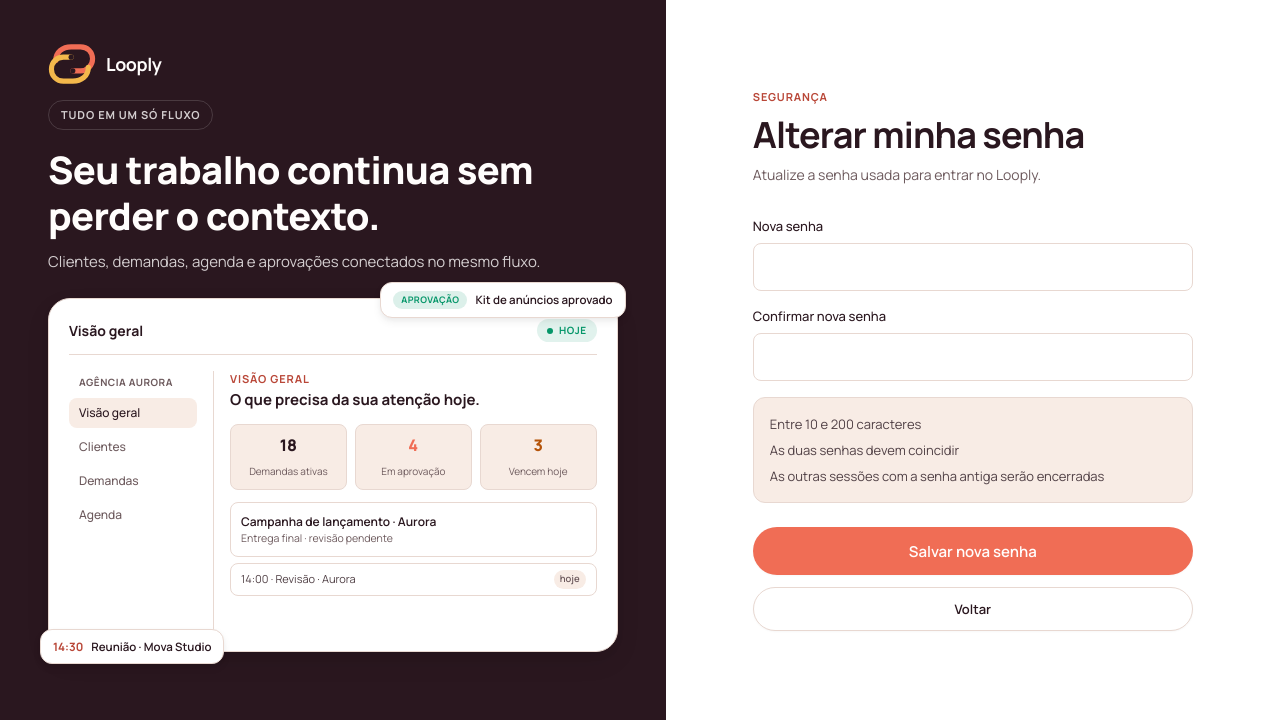
ChangePassword › shows a neutral message on network failure, never a raw error
The width and height of the screenshot is (1280, 720).
Type "senhaforte123" into the password field labelled "Nova senha" at (973, 267), box [753, 242, 1193, 291]
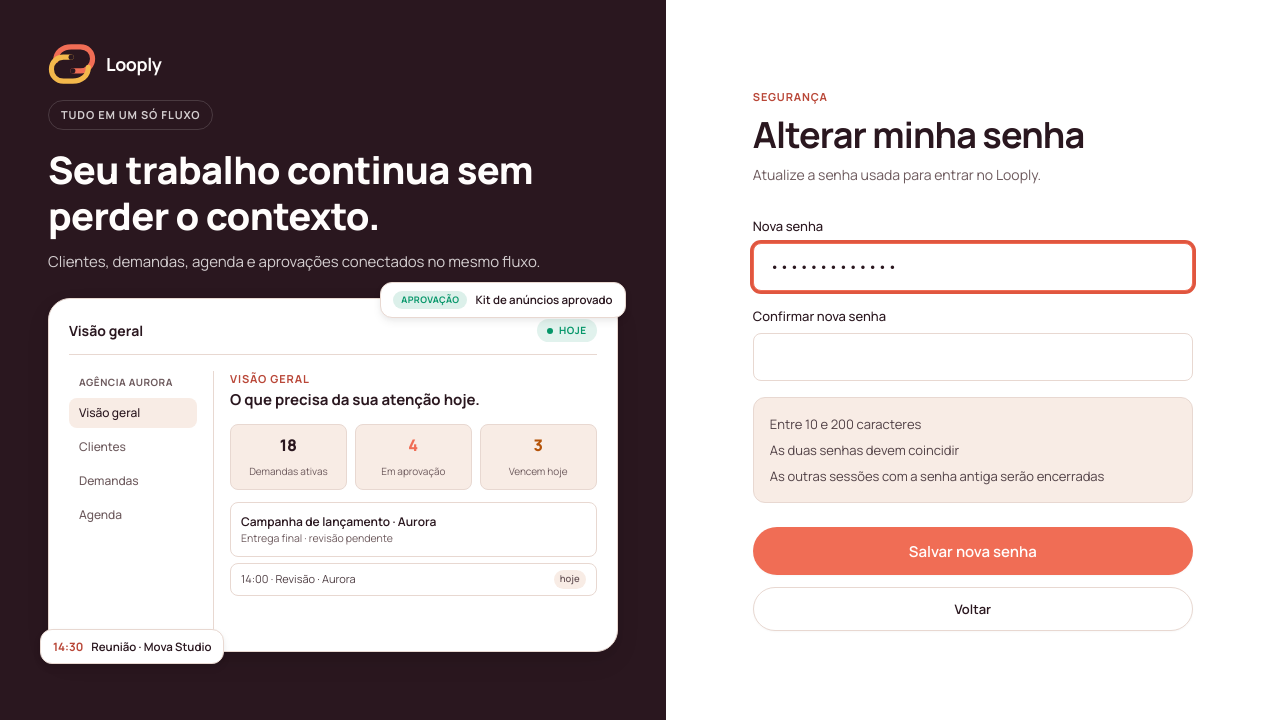
Type "senhaforte123" into the password field labelled "Confirmar nova senha" at (973, 357), box [753, 332, 1193, 381]
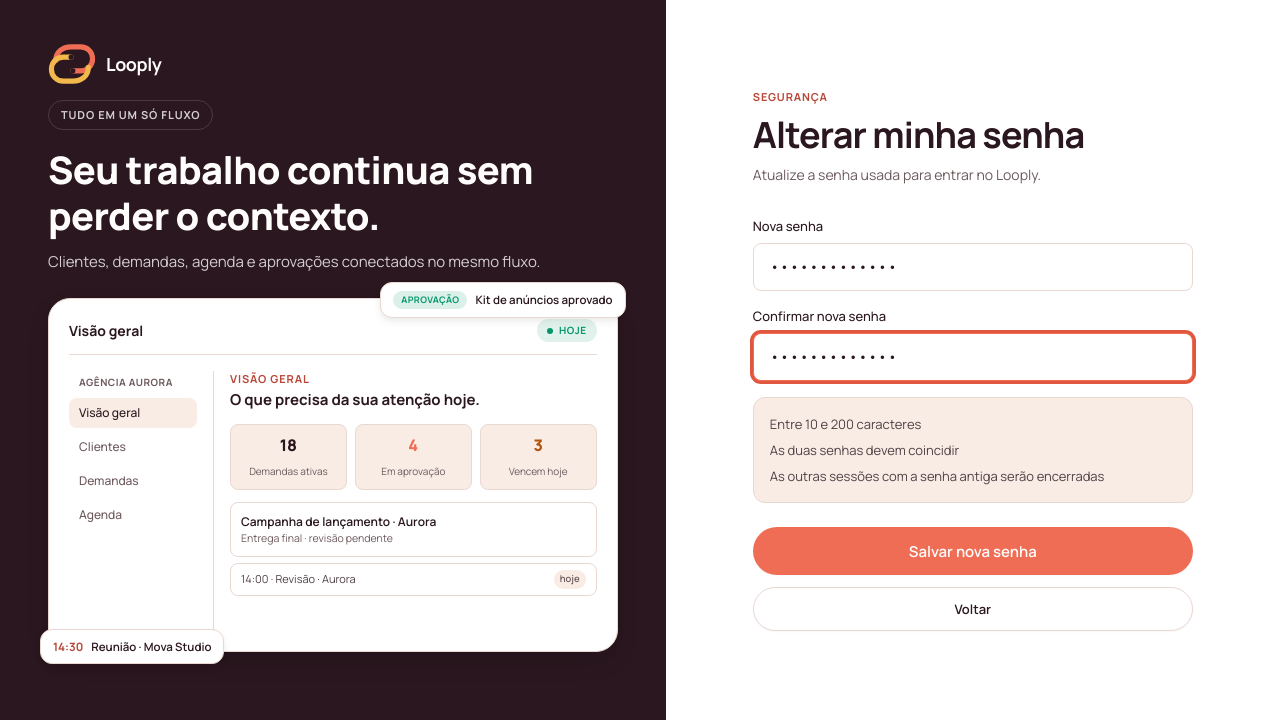
Click the button "Salvar nova senha" at (973, 551), box [753, 527, 1193, 575]
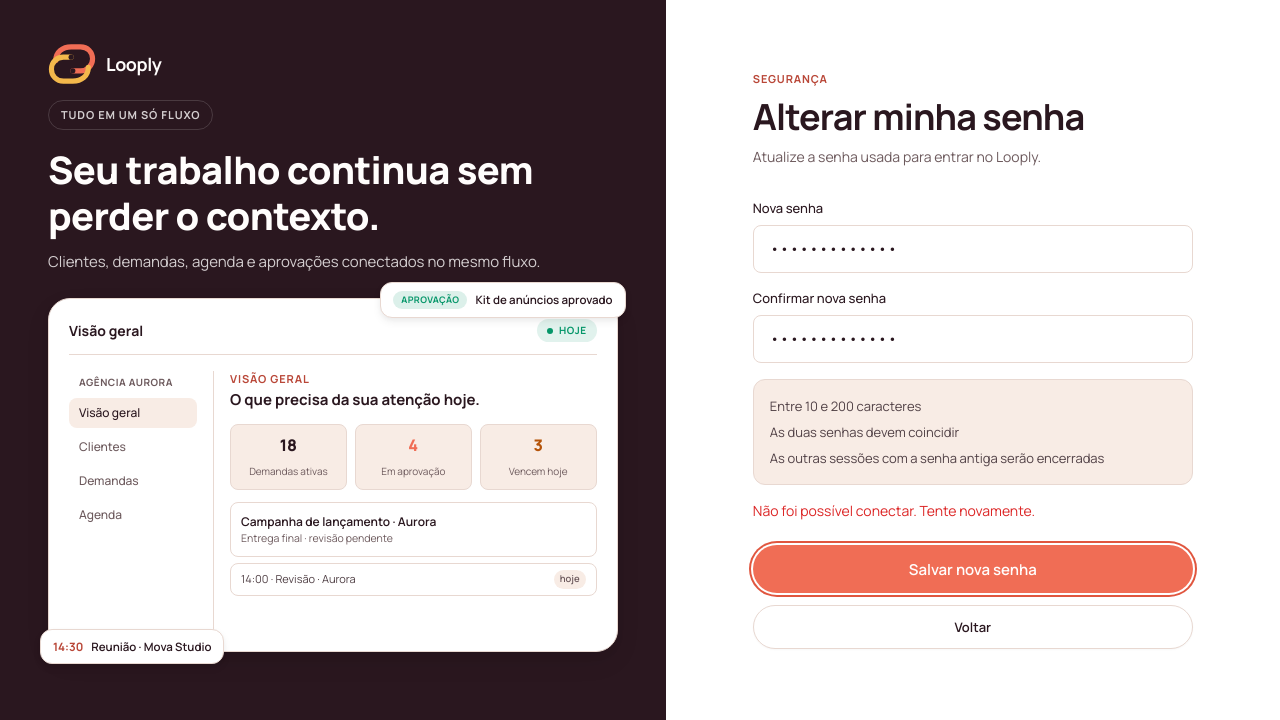
Expected: the message reads "Não foi possível conectar. Tente novamente.", [753, 501, 1035, 520]
